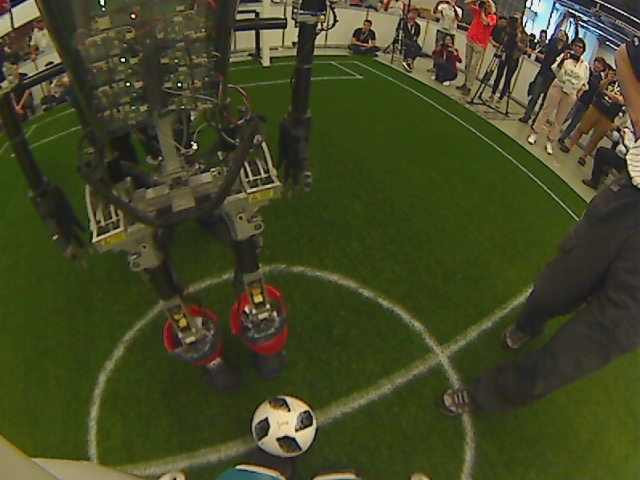ball: (248, 393, 319, 462)
